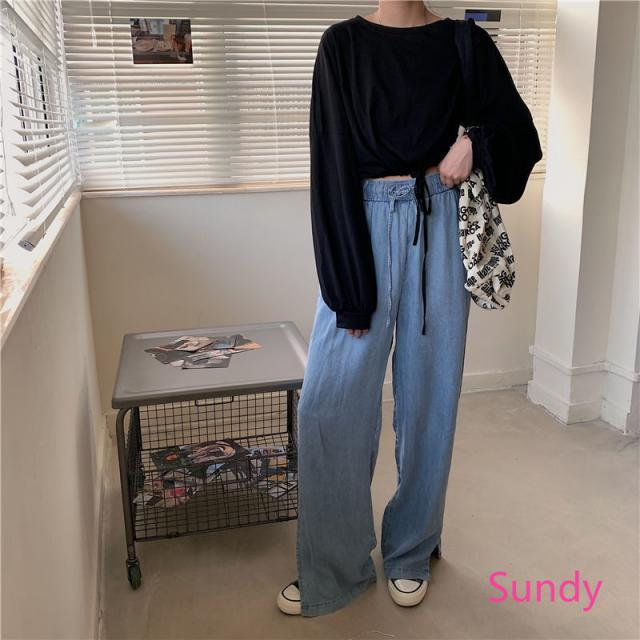Shirt: (306, 14, 540, 337)
